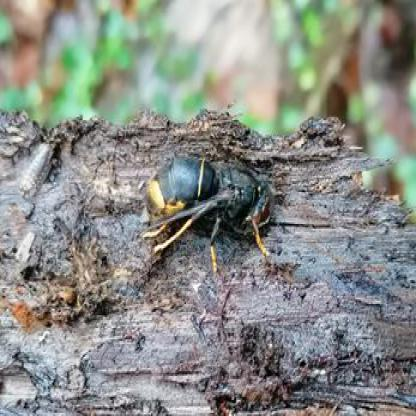Asian Hornet: (141, 150, 291, 286)
